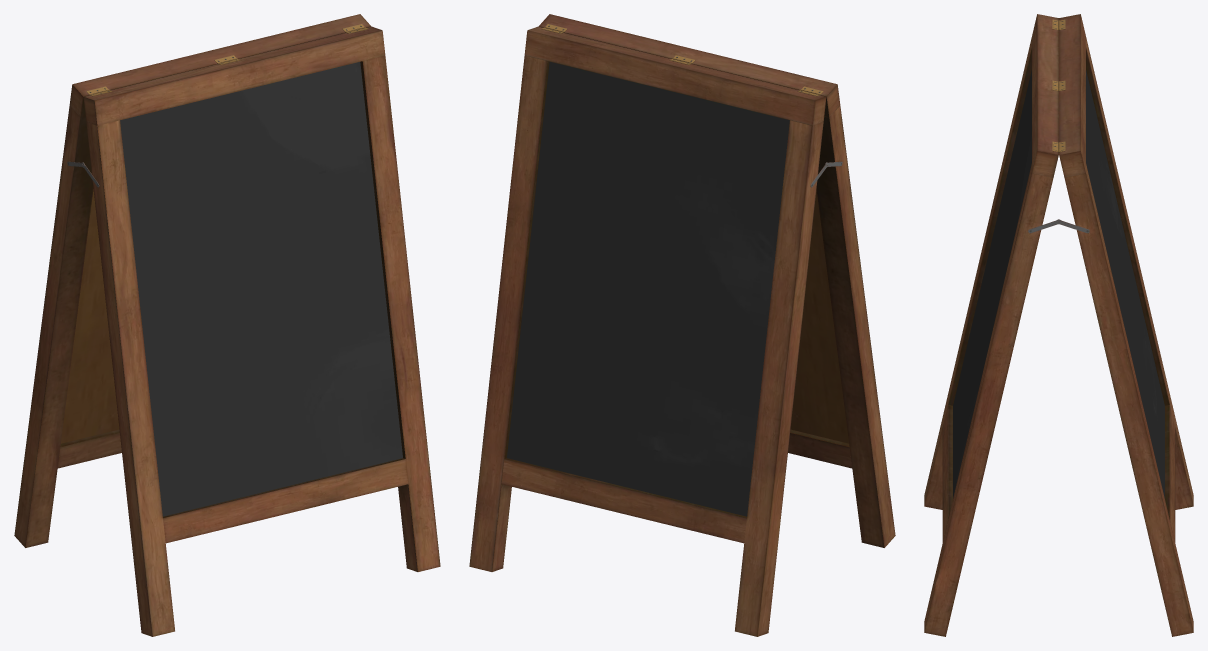
File: standing_chalkboard_01.glb
3 views of the same model, side by side, from view 1: azimuth 30°, elevation 25°; view 2: azimuth 150°, elevation 25°; view 3: azimuth 270°, elevation 25° (orthographic). The views are drawn at different scales.
Parts seen in each view (by area): view 1: standing_chalkboard_01; view 2: standing_chalkboard_01; view 3: standing_chalkboard_01.
Boxes of the visible parts, x1,y1,x2,y2 form: standing_chalkboard_01: [14, 14, 440, 636]; standing_chalkboard_01: [469, 14, 895, 636]; standing_chalkboard_01: [924, 14, 1193, 636].
Bounding box in the file's own units: 0.9195 × 1.51 × 0.7587.
2 materials, 2 textured.
